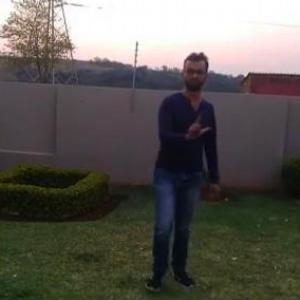land_hand: (178, 104, 212, 144)
